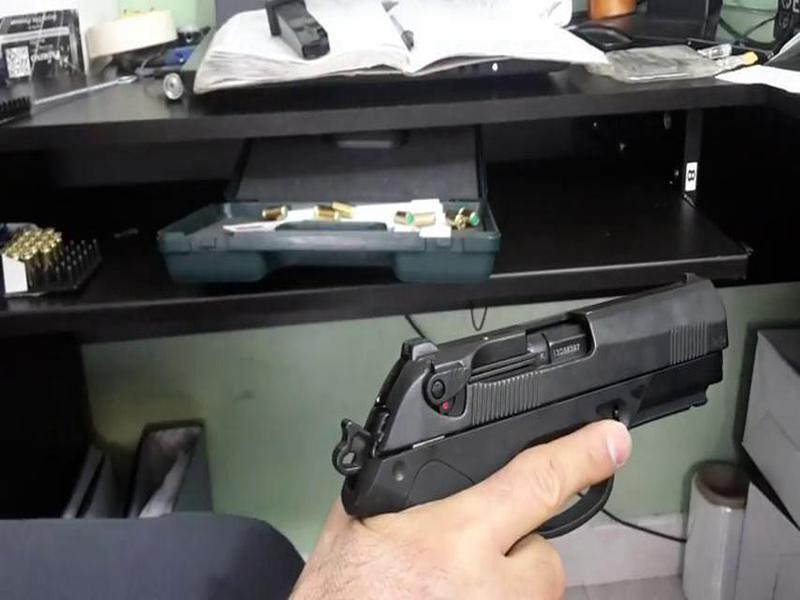Pistola: (311, 268, 753, 534)
